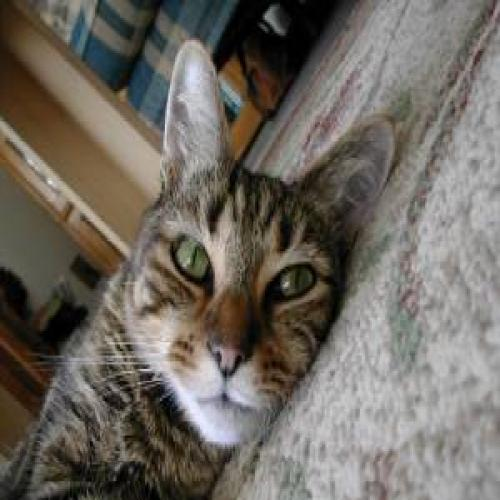bengal: (107, 31, 400, 458)
